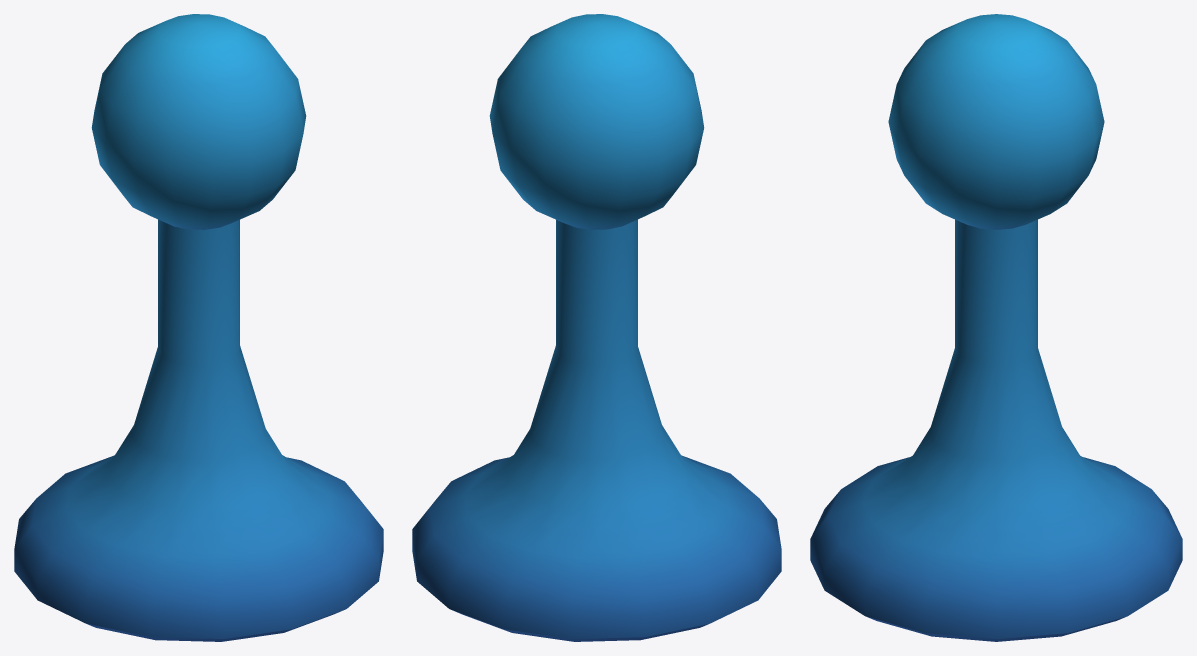
File: pawn_B_blue.obj
3 views of the same model, side by side, from view 1: azimuth 30°, elevation 25°; view 2: azimuth 150°, elevation 25°; view 3: azimuth 270°, elevation 25° (orthographic).
Parts seen in each view (by area): view 1: pawn_B_blue; view 2: pawn_B_blue; view 3: pawn_B_blue.
Boxes of the visible parts, x1,y1,x2,y2 form: pawn_B_blue: [14, 14, 383, 641]; pawn_B_blue: [412, 14, 781, 641]; pawn_B_blue: [810, 14, 1182, 641].
Bounding box in the file's own units: 0.75 × 1.21 × 0.75.
1 material, 1 textured.
